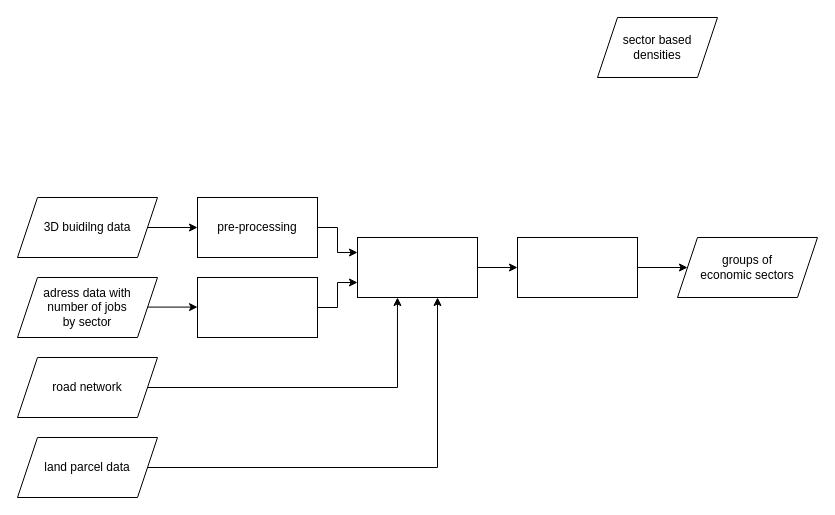
Image size: 835x515. Some labels were removed from this diagram. The shapes that lost their labels are listed below. From the top down, each one's centre as x and y in pixels, then its label:
At [417,267]: "derivation of building features".
At [577,267]: "clustering".
At [257,307]: "geocoding (semi-automated)".
